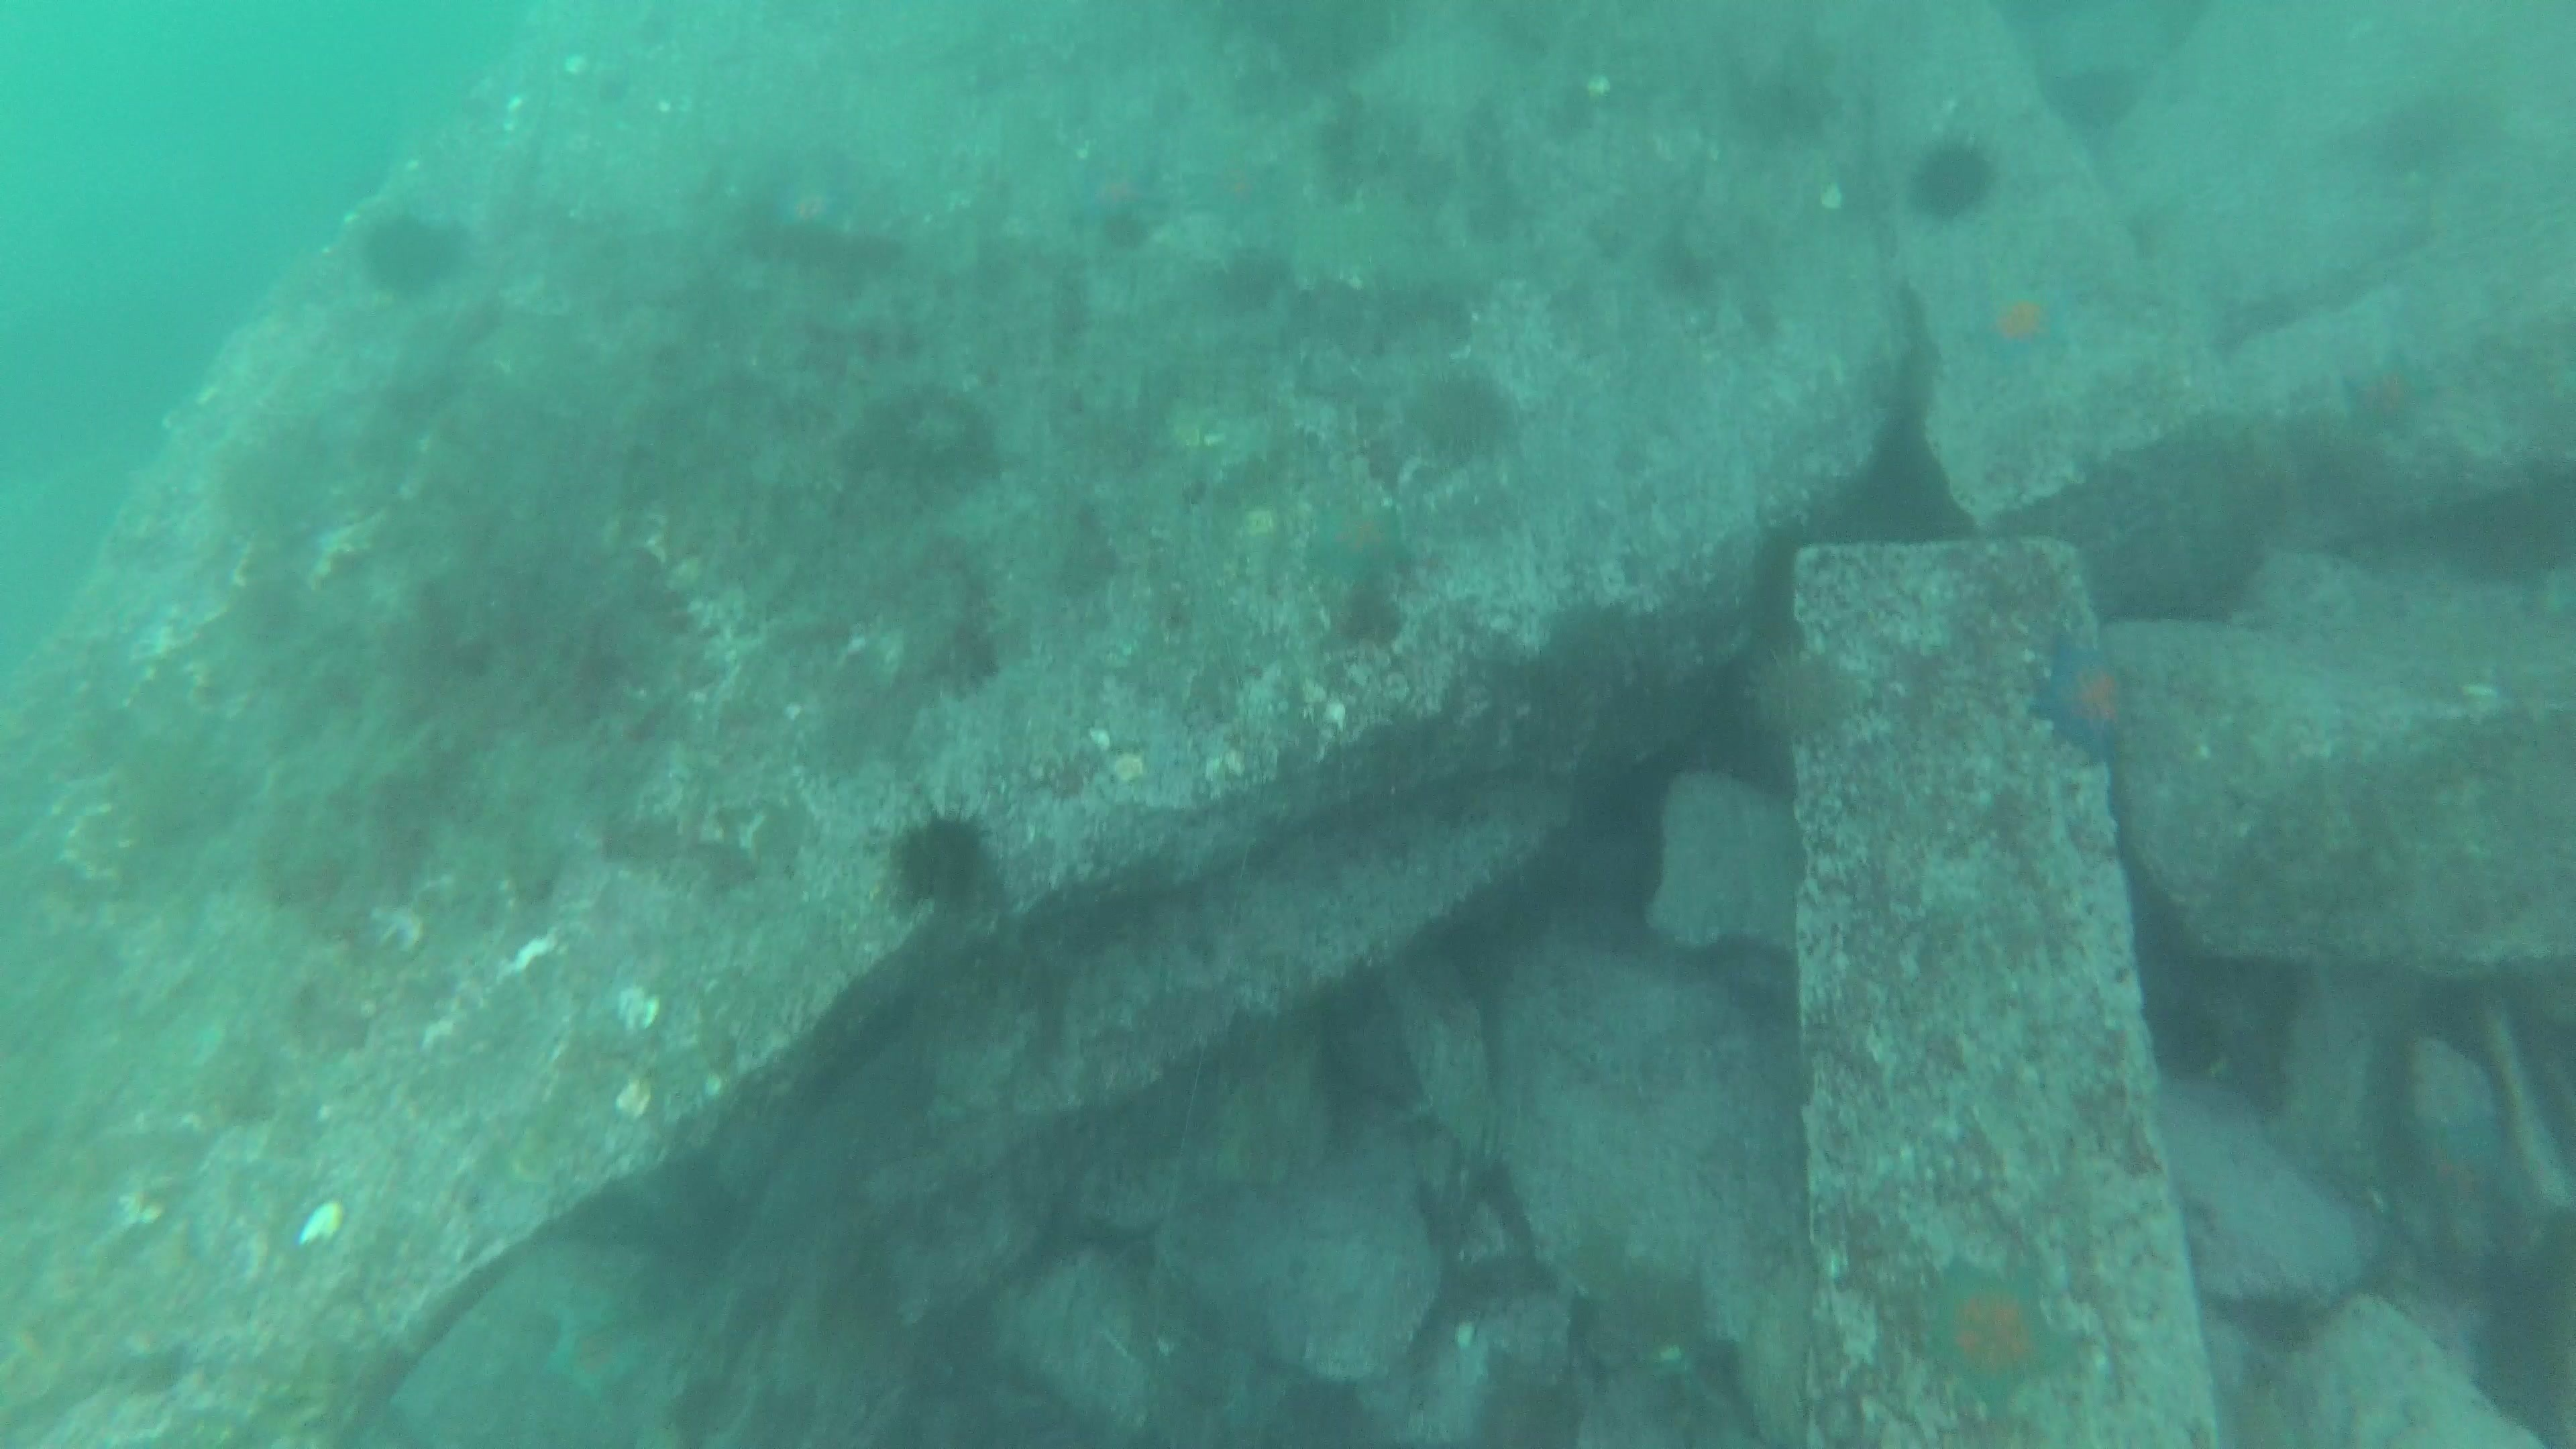echinus: (878, 800, 1007, 920), (1736, 637, 1865, 755), (1398, 359, 1522, 472), (350, 200, 472, 304), (1902, 127, 2005, 228), (1201, 237, 1297, 322)
starfish: (1902, 1246, 2089, 1421), (2387, 1090, 2535, 1256), (2022, 623, 2153, 766), (525, 1283, 662, 1414), (1959, 265, 2084, 377), (1297, 487, 1422, 594), (1060, 136, 1175, 249), (2330, 341, 2447, 444), (1178, 138, 1295, 235)
